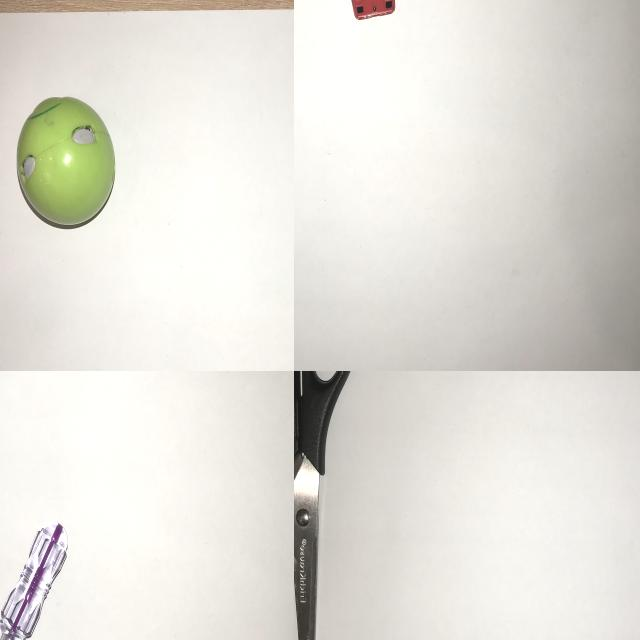scissors: (294, 371, 366, 640)
screwdriver: (0, 516, 72, 640)
toy: (12, 91, 120, 232)
